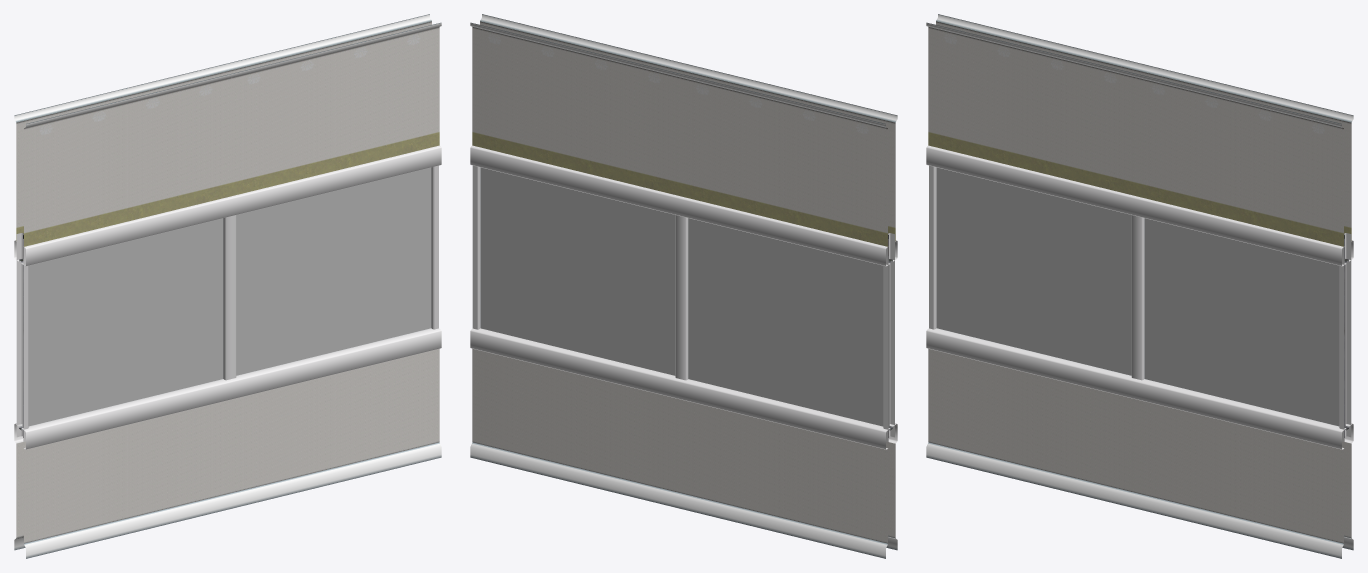
Rendered from waitingroom_reception_flat.dae.
3 renders of one model, left to right at view 1: azimuth 30°, elevation 25°; view 2: azimuth 150°, elevation 25°; view 3: azimuth 330°, elevation 25°, orthographic.
Parts seen in each view (by area): view 1: polySurface185, polySurface186; view 2: polySurface185, polySurface186; view 3: polySurface185, polySurface186.
Boxes of the visible parts, left/top/right/bottom form: polySurface185: left=14, top=14, right=441, bottom=558; polySurface186: left=22, top=167, right=431, bottom=427; polySurface185: left=470, top=14, right=897, bottom=558; polySurface186: left=480, top=167, right=889, bottom=427; polySurface185: left=926, top=14, right=1353, bottom=558; polySurface186: left=936, top=167, right=1345, bottom=427.
Size of the model in its own units: 4 by 4 by 0.1933.
